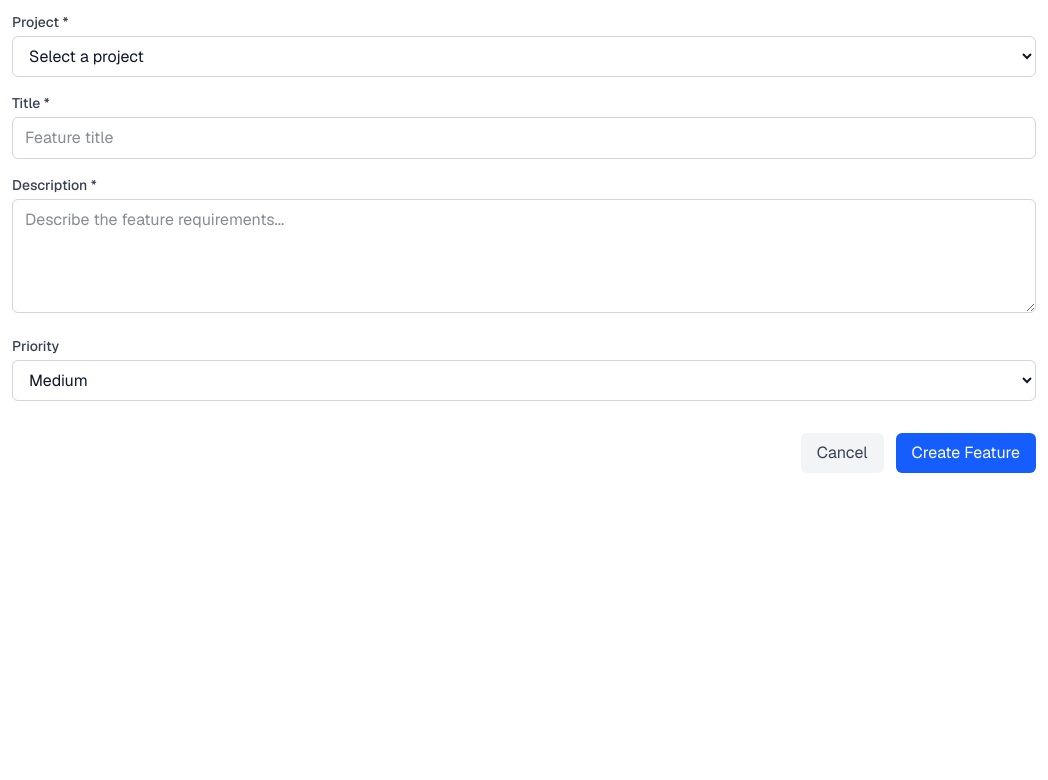
Test: FeatureForm › Create mode › should validate required fields
This screenshot has width=1048, height=780.
Click the button "Create Feature": (966, 453) [896, 433, 1036, 473]
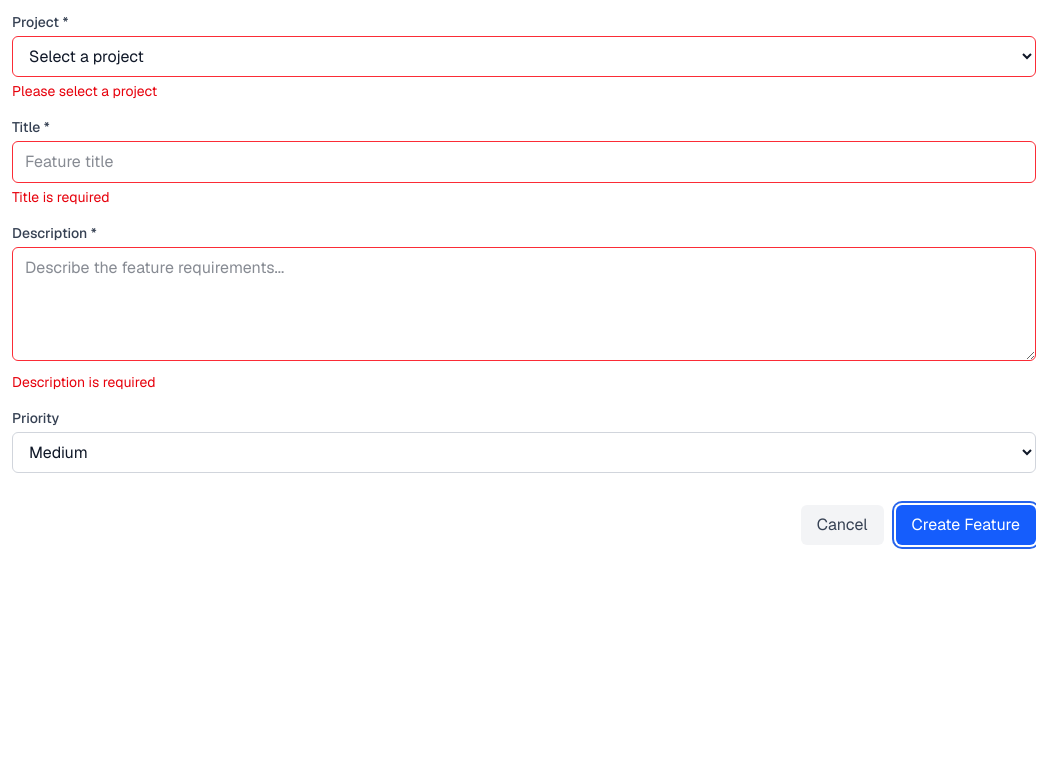
Expected: the text "Title is required" is shown, [12, 188, 110, 206]
